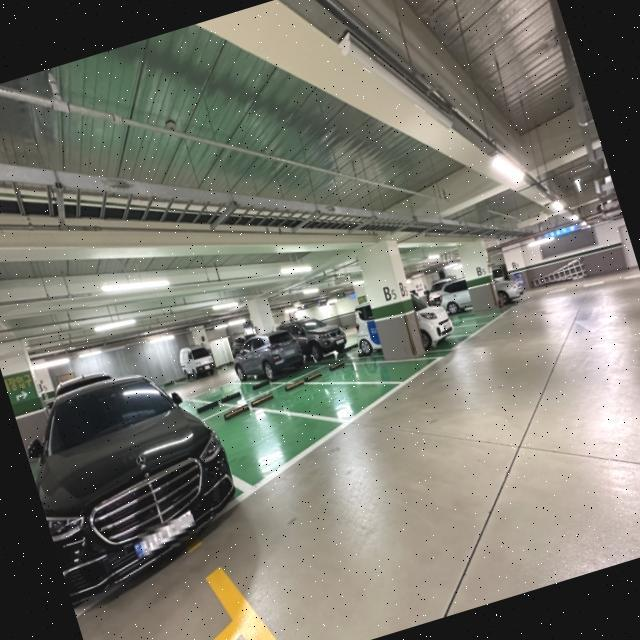Car: (8, 337, 254, 606)
Vacant: (174, 400, 344, 489), (241, 381, 401, 418), (297, 355, 443, 384)
